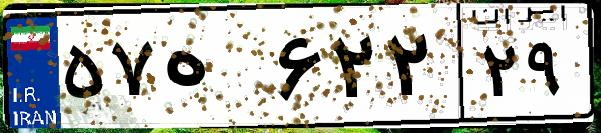2: (385, 28, 445, 110), (330, 28, 385, 110), (475, 38, 525, 113)
5: (57, 26, 110, 100)
6: (270, 28, 330, 110)
7: (110, 28, 158, 98)
9: (525, 38, 570, 115)
ه: (158, 20, 270, 120)
